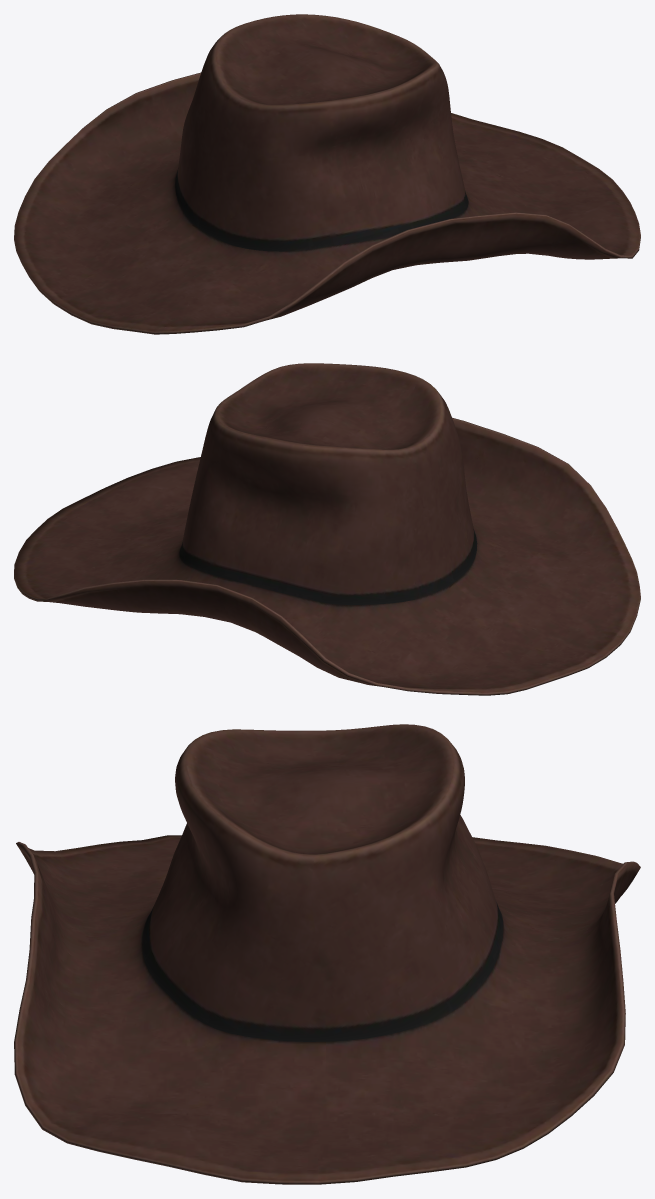
The model's file is hat.glb.
The picture shows the model from 3 angles, top to bottom: view 1: azimuth 30°, elevation 25°; view 2: azimuth 150°, elevation 25°; view 3: azimuth 270°, elevation 25°; orthographic projection. The views are drawn at different scales.
Parts seen in each view (by area): view 1: hat; view 2: hat; view 3: hat.
Boxes of the visible parts, x1,y1,x2,y2 form: hat: (14,14,640,334); hat: (14,363,640,695); hat: (14,724,640,1184).
Bounding box in the file's own units: 37.4 × 12.16 × 28.34.
Materials: 1 (1 with a texture image).
